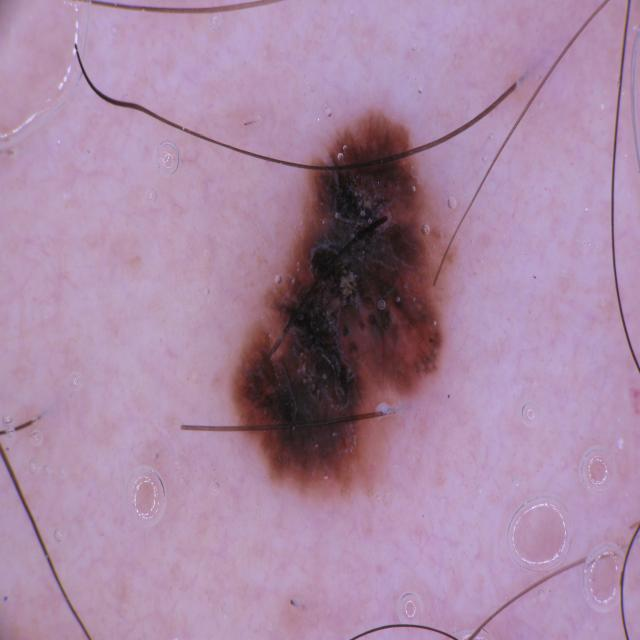Melanoma: (225, 99, 468, 508)
